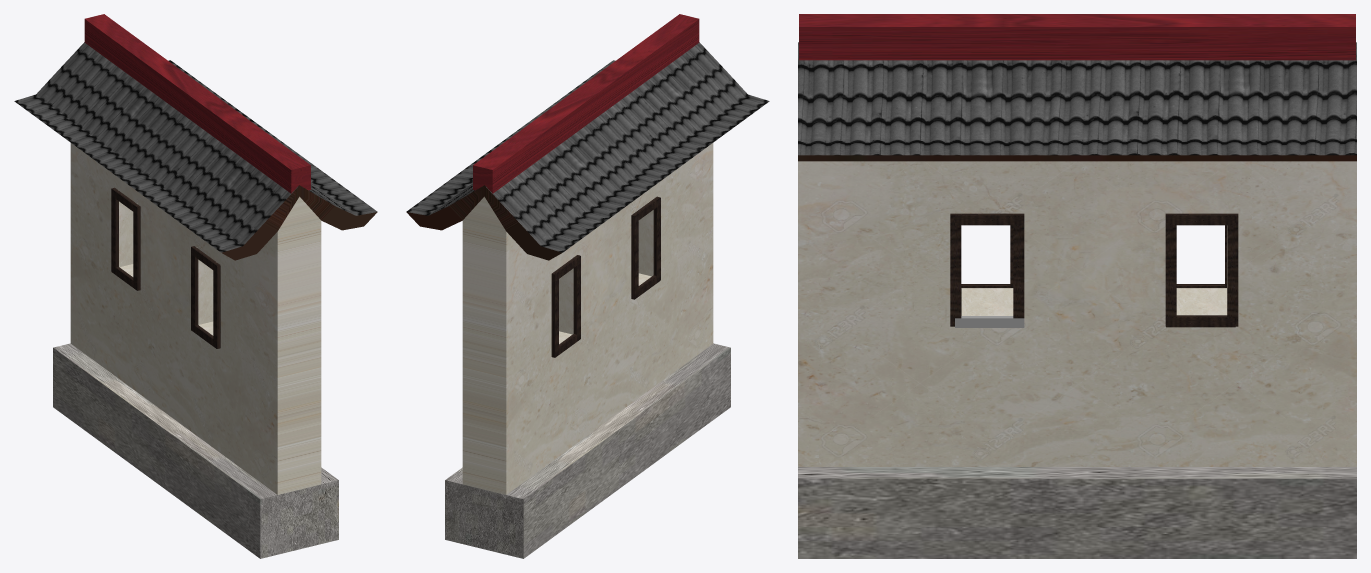
File: hideout_wall.fbx
3 renders of one model, left to right at view 1: azimuth 30°, elevation 25°; view 2: azimuth 150°, elevation 25°; view 3: azimuth 270°, elevation 25°, orthographic. The views are drawn at different scales.
Parts seen in each view (by area): view 1: pCube1, pCube2, pCube19, pPlane5, pPlane8, pCube11, pCube14, pCube12, pCube13; view 2: pCube1, pCube2, pCube19, pPlane6, pPlane7, pCube13, pCube12, pCube14, pCube11; view 3: pCube1, pCube2, pCube19, pPlane1, pPlane2, pCube15, pCube18, pCube17, pCube16, pCube6, pCube4, pCube5 (+1 smaller).
Boxes of the visible parts, <box> form: pCube1: <box>14,42,377,494</box>; pCube2: <box>53,343,338,558</box>; pCube19: <box>84,14,310,193</box>; pPlane5: <box>196,247,213,324</box>; pPlane8: <box>118,190,133,267</box>; pCube11: <box>133,205,140,290</box>; pCube14: <box>213,265,220,348</box>; pCube12: <box>111,189,118,274</box>; pCube13: <box>191,250,198,332</box>; pCube1: <box>406,42,769,494</box>; pCube2: <box>445,343,730,558</box>; pCube19: <box>473,14,699,193</box>; pPlane6: <box>638,199,653,276</box>; pPlane7: <box>559,257,573,334</box>; pCube13: <box>631,214,638,299</box>; pCube12: <box>551,272,558,357</box>; pCube14: <box>653,197,660,282</box>; pCube11: <box>573,256,580,340</box>; pCube1: <box>798,42,1356,466</box>; pCube2: <box>798,467,1356,558</box>; pCube19: <box>799,14,1355,60</box>; pPlane1: <box>962,288,1013,315</box>; pPlane2: <box>1176,288,1226,315</box>; pCube15: <box>950,213,961,326</box>; pCube18: <box>1227,213,1238,326</box>; pCube17: <box>1165,213,1176,326</box>; pCube16: <box>1013,213,1024,318</box>; pCube6: <box>1166,315,1235,327</box>; pCube4: <box>955,213,1024,225</box>; pCube5: <box>1166,213,1235,225</box>.
Size of the model in its own units: 4.37 by 10.16 by 10.02.
Materials: 7 (6 with a texture image).
